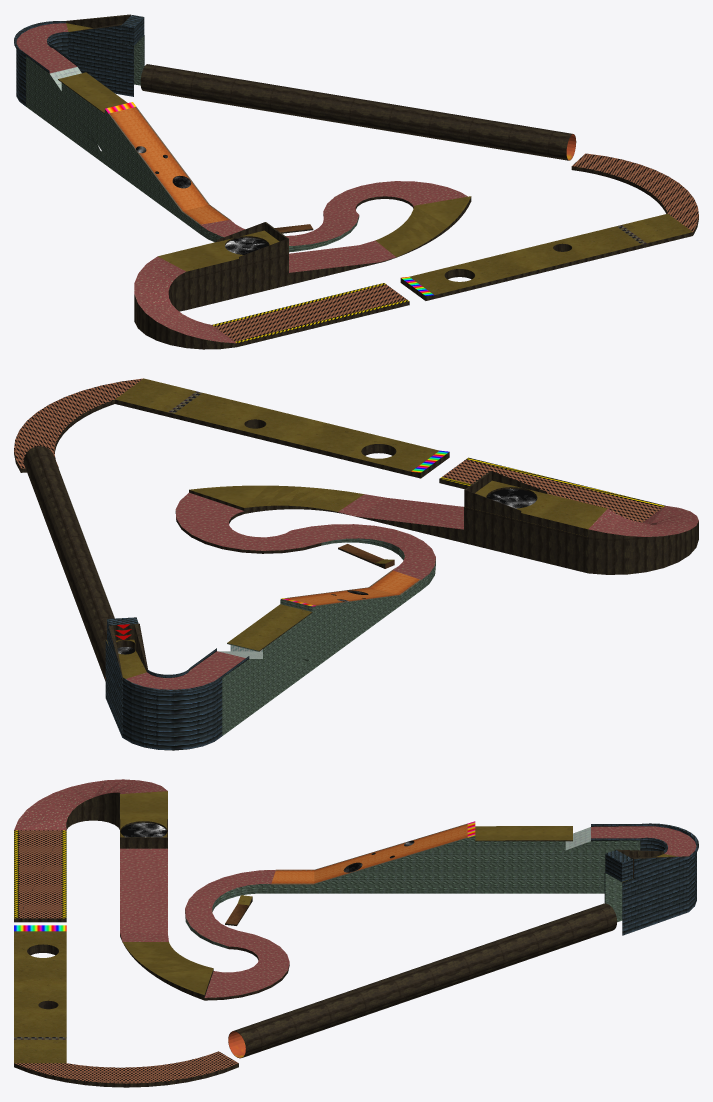
The picture shows the model from 3 angles, top to bottom: view 1: azimuth 30°, elevation 25°; view 2: azimuth 150°, elevation 25°; view 3: azimuth 270°, elevation 25°; orthographic projection. The views are drawn at different scales.
Parts seen in each view (by area): view 1: lavahole2-SKP--Wall001, lavahole2-SKP--Road002, lavahole2-SKP--001Sticky_3, lavahole2-SKP--Wall000_3, lavahole2-SKP--Road006_1, lavahole2-SKP--Wall000_2, lavahole2-SKP--001Sticky, lavahole2-SKP--Road006, lavahole2-SKP--NOChOICE, lavahole2-SKP--100-002Road; view 2: lavahole2-SKP--Wall001, lavahole2-SKP--Road002, lavahole2-SKP--001Sticky_3, lavahole2-SKP--Wall000_3, lavahole2-SKP--Wall000_2, lavahole2-SKP--Road006_1, lavahole2-SKP--001Sticky, lavahole2-SKP--100-002Road, lavahole2-SKP--NOChOICE, lavahole2-SKP--Road006; view 3: lavahole2-SKP--Wall001, lavahole2-SKP--001Sticky_3, lavahole2-SKP--Wall000_3, lavahole2-SKP--Road002, lavahole2-SKP--Road006_1, lavahole2-SKP--Wall000_2, lavahole2-SKP--001Sticky, lavahole2-SKP--Road006, lavahole2-SKP--NOChOICE, lavahole2-SKP--100-002Road.
Part boxes in pixels (x1,y1,x2,y2): lavahole2-SKP--Wall001: (58,14,698,349); lavahole2-SKP--Road002: (62,23,692,294); lavahole2-SKP--001Sticky_3: (16,23,467,343); lavahole2-SKP--Wall000_3: (26,35,359,252); lavahole2-SKP--Road006_1: (214,153,698,341); lavahole2-SKP--Wall000_2: (14,14,144,106); lavahole2-SKP--001Sticky: (110,107,227,224); lavahole2-SKP--Road006: (212,283,408,343); lavahole2-SKP--NOChOICE: (136,146,268,254); lavahole2-SKP--100-002Road: (58,72,470,256); lavahole2-SKP--Wall001: (14,399,698,681); lavahole2-SKP--Road002: (106,378,607,678); lavahole2-SKP--001Sticky_3: (126,492,698,689); lavahole2-SKP--Wall000_3: (222,538,435,735); lavahole2-SKP--Wall000_2: (105,617,249,750); lavahole2-SKP--Road006_1: (14,378,662,522); lavahole2-SKP--001Sticky: (287,571,418,605); lavahole2-SKP--100-002Road: (118,480,543,655); lavahole2-SKP--NOChOICE: (117,488,537,654); lavahole2-SKP--Road006: (440,457,665,507); lavahole2-SKP--Wall001: (14,792,688,1087); lavahole2-SKP--001Sticky_3: (14,779,696,997); lavahole2-SKP--Wall000_3: (185,835,640,948); lavahole2-SKP--Road002: (14,791,677,1063); lavahole2-SKP--Road006_1: (15,830,238,1083); lavahole2-SKP--Wall000_2: (591,823,698,935); lavahole2-SKP--001Sticky: (271,824,467,883); lavahole2-SKP--Road006: (14,830,66,918); lavahole2-SKP--NOChOICE: (120,822,414,872); lavahole2-SKP--100-002Road: (120,818,572,994).
Size of what is drawn, in the model's own units: 72530 by 9273 by 74514.
Materials: 28 (28 with a texture image).
